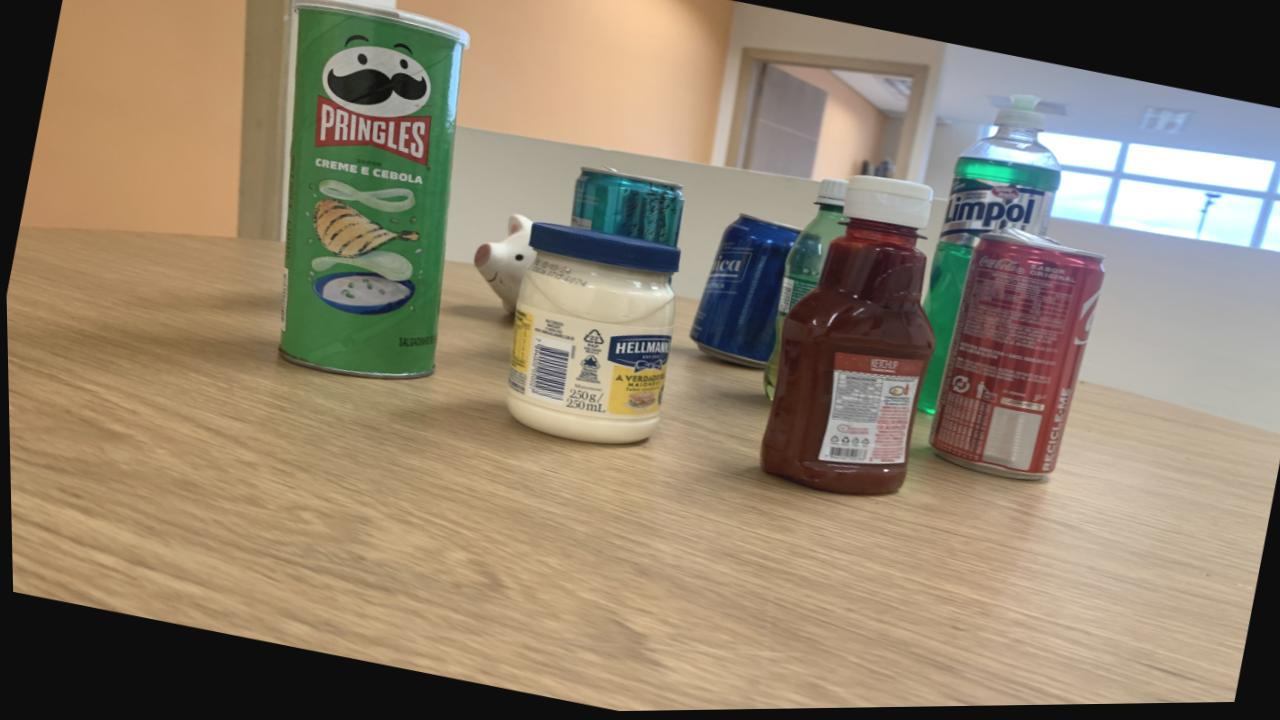Coke-Drinks: (927, 235, 1102, 483)
Detergent-Cleanup_Items: (915, 97, 1059, 417)
Guarana-Drinks: (760, 181, 848, 402)
Ketchup-Pantry_Items: (757, 180, 933, 498)
Mayonnaise-Pantry_Items: (503, 224, 678, 446)
Pig_Safe-Miscellaneous: (472, 216, 535, 314)
Pringles-Snacks: (277, 0, 468, 381)
Tea-Drinks: (569, 169, 683, 249)
Tonic-Drinks: (687, 217, 800, 372)
